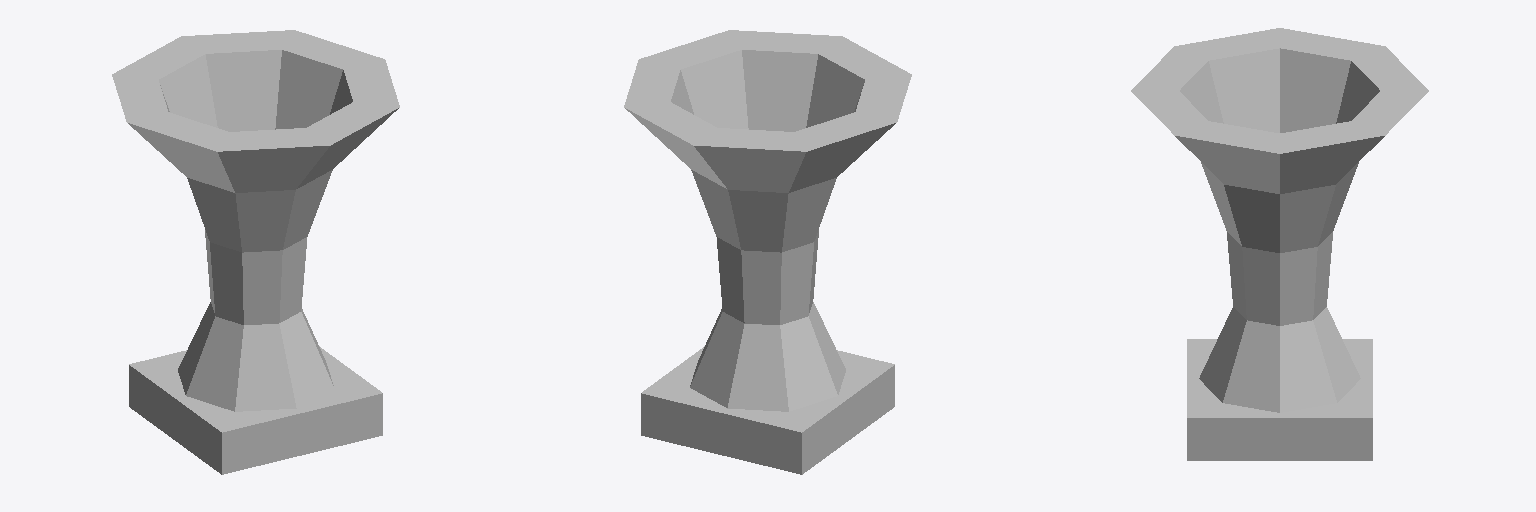
File: TROFEU.obj
3 renders of one model, left to right at view 1: azimuth 30°, elevation 25°; view 2: azimuth 150°, elevation 25°; view 3: azimuth 270°, elevation 25°, orthographic.
Visible parts, largest first — view 1: pCylinder1, pCube1, pCube2; view 2: pCylinder1, pCube1, pCube2; view 3: pCylinder1, pCube1.
Boxes of the visible parts, x1=… form: pCylinder1: x1=112, y1=30, x2=399, y2=411; pCube1: x1=129, y1=346, x2=382, y2=474; pCube2: x1=149, y1=385, x2=196, y2=454; pCylinder1: x1=624, y1=30, x2=911, y2=411; pCube1: x1=641, y1=346, x2=894, y2=474; pCube2: x1=826, y1=385, x2=873, y2=455; pCylinder1: x1=1131, y1=28, x2=1428, y2=412; pCube1: x1=1187, y1=339, x2=1372, y2=460.
Bounding box in the file's own units: 64.02 × 78.12 × 64.02.